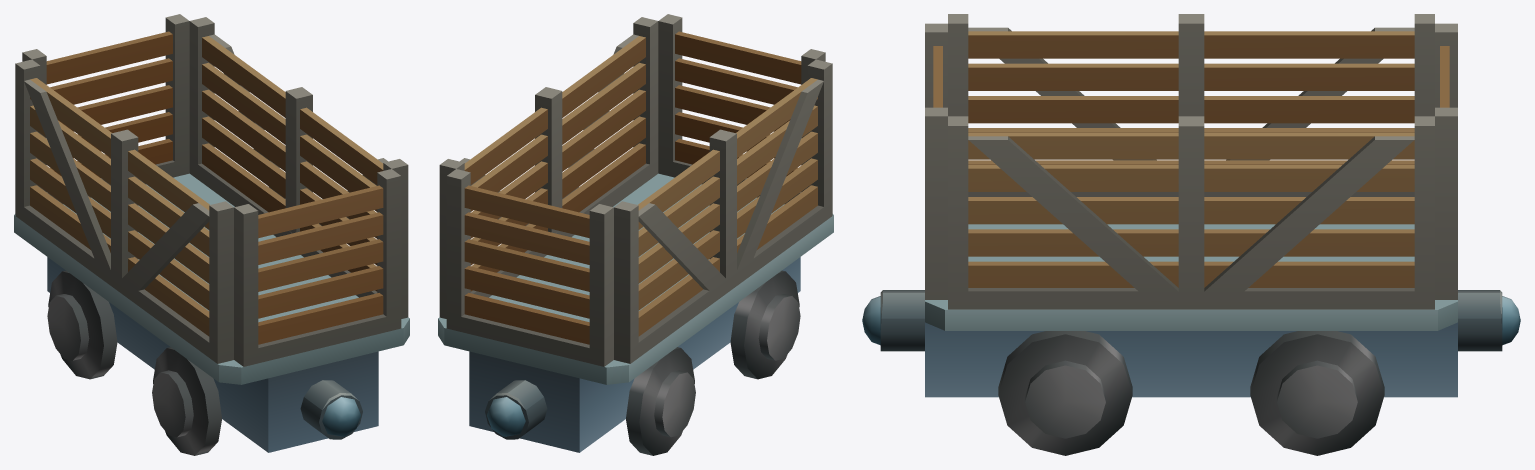
File: Carriage_Open.fbx
The picture shows the model from 3 angles, left to right: view 1: azimuth 30°, elevation 25°; view 2: azimuth 150°, elevation 25°; view 3: azimuth 270°, elevation 25°; orthographic projection. The views are drawn at different scales.
Parts seen in each view (by area): view 1: Carriage_Open; view 2: Carriage_Open; view 3: Carriage_Open.
Boxes of the visible parts, left/top/right/bottom form: Carriage_Open: left=14, top=14, right=409, bottom=455; Carriage_Open: left=438, top=14, right=833, bottom=455; Carriage_Open: left=862, top=14, right=1520, bottom=455.
Bounding box in the file's own units: 276 × 386 × 684.
